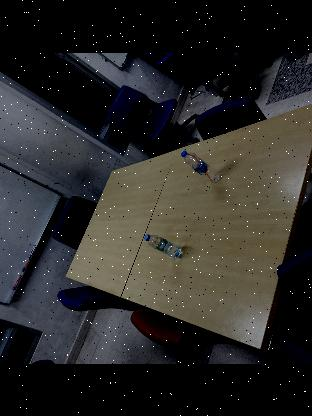Plastic Bottle: (180, 150, 222, 183), (144, 233, 184, 257)
